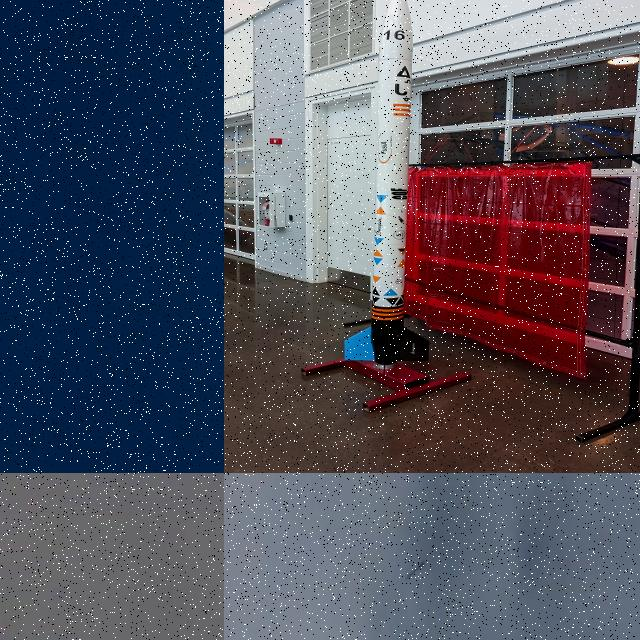Rocket: (344, 0, 430, 376), (406, 562, 424, 579)
